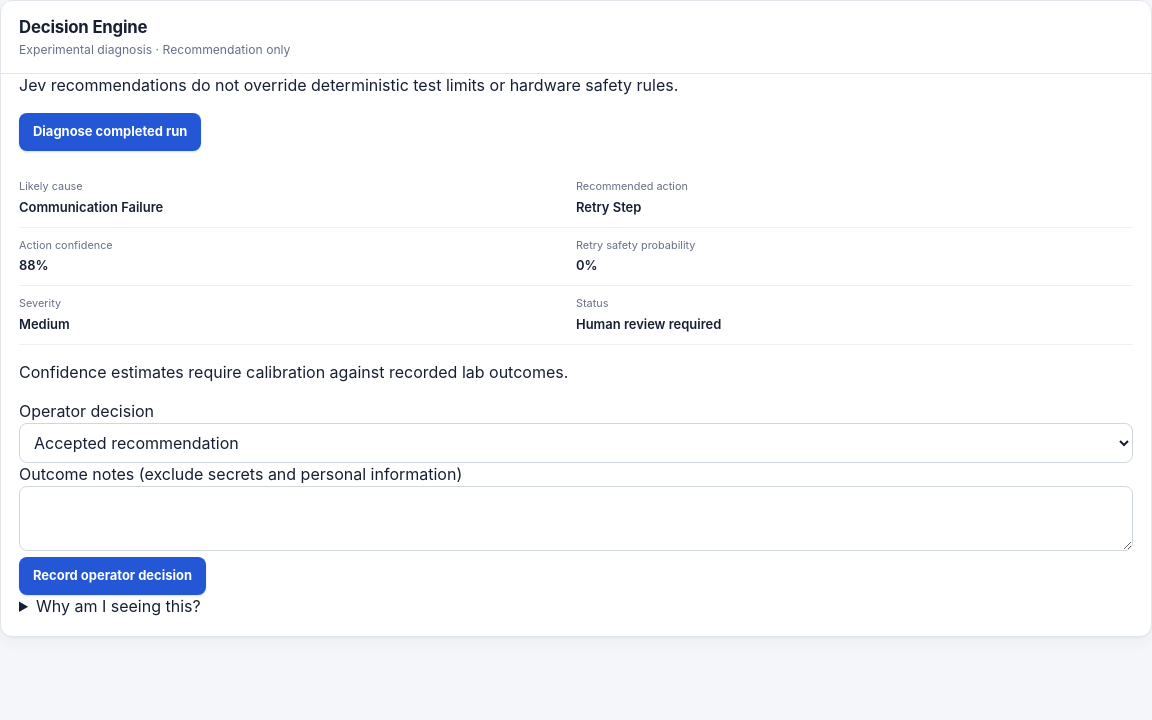
it: Decision Engine › records feedback without executing recovery
This screenshot has width=1152, height=720.
Select "Rejected recommendation" in the dropdown labelled "Operator decision" at x=576, y=443, box [19,423,1133,463]
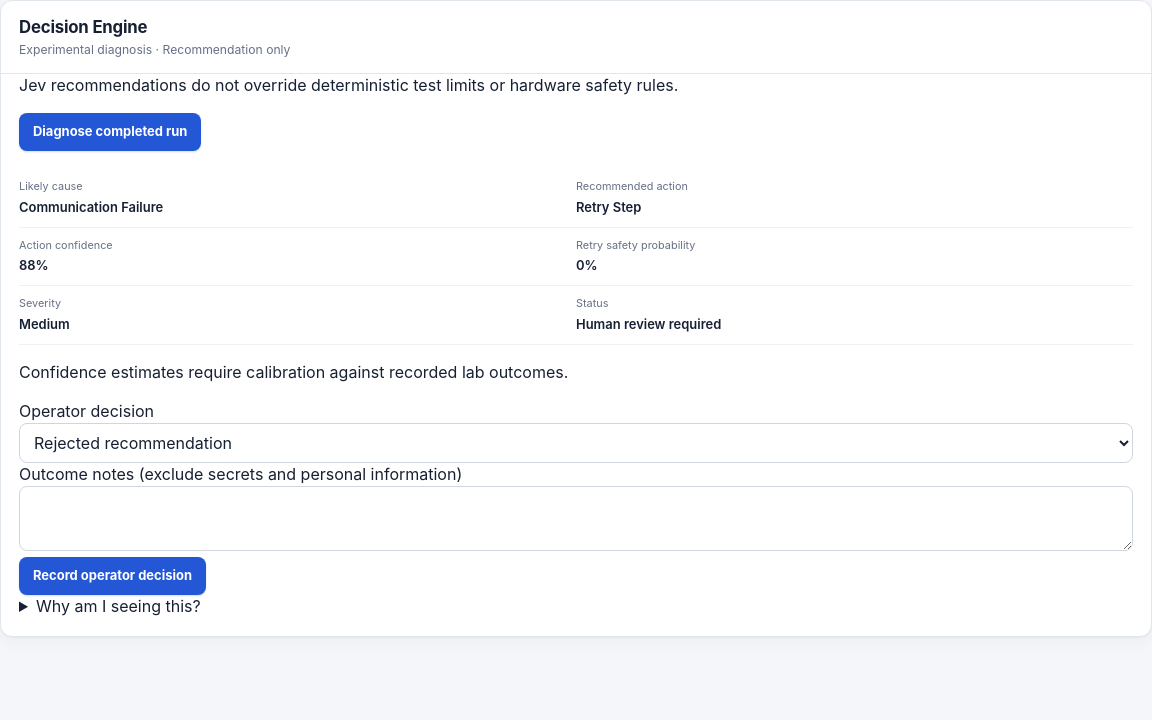
Click the button "Record operator decision".
click(112, 576)  # box [19,557,206,595]
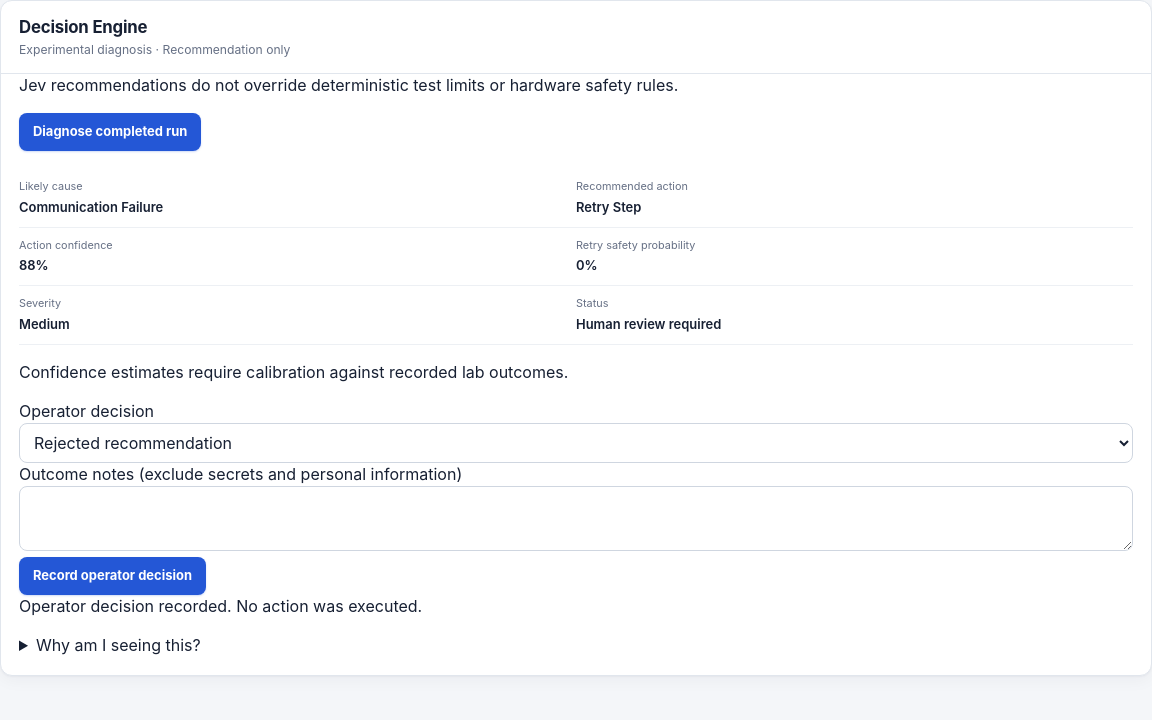
Expected: the text "Operator decision recorded. No action was executed." is shown, [19,596,422,616]
